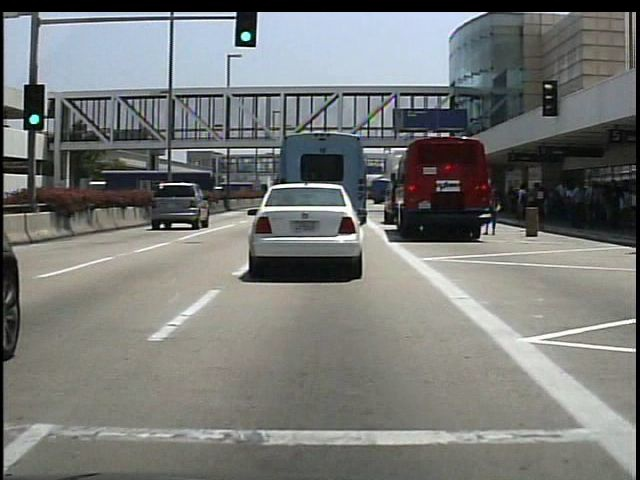person: (486, 188, 499, 238)
